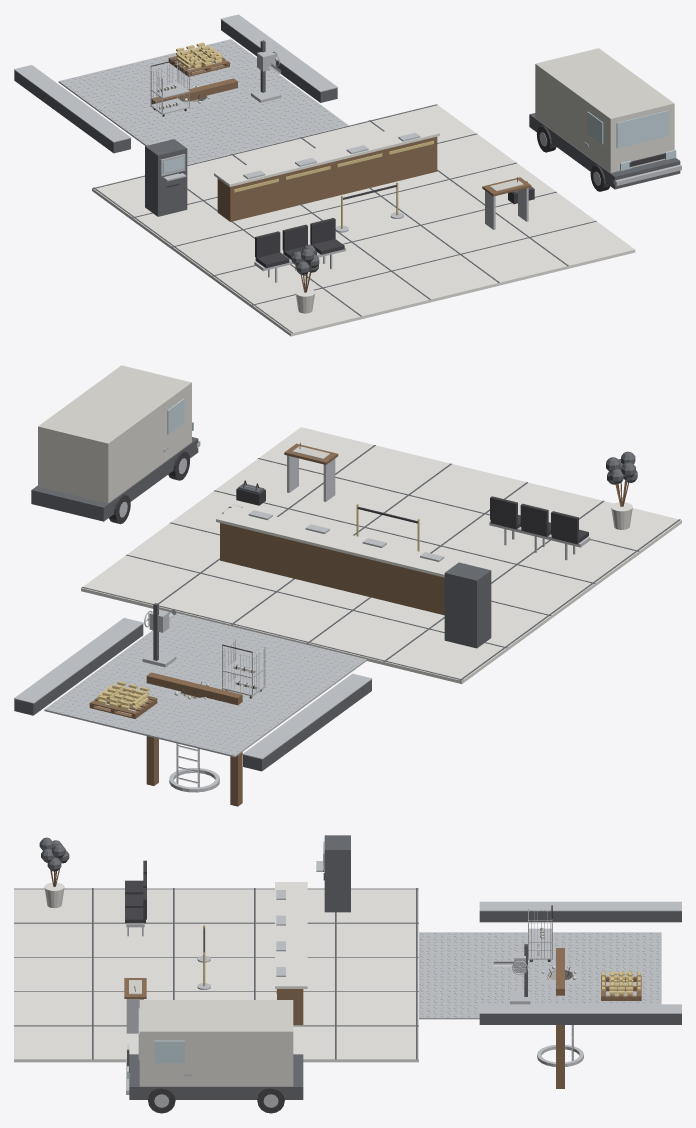
File: bank-vault-heist-kit-bank-planning-layout-6467aecb__25168.glb
3 views of the same model, one above another, from view 1: azimuth 30°, elevation 25°; view 2: azimuth 150°, elevation 25°; view 3: azimuth 270°, elevation 25° (orthographic). The views are drawn at different scales.
Visible parts, largest first — view 1: 081-getaway-van/9, 009-lobby-floor-tile/0, 019-lobby-floor-tile/0, 014-lobby-floor-tile/0, 024-lobby-floor-tile/0, 013-lobby-floor-tile/0, 017-lobby-floor-tile/0, 004-lobby-floor-tile/0, 001-lobby-floor-tile/0, 032-atm/0, 018-lobby-floor-tile/0, 029-waiting-chairs/1 (+56 smaller); view 2: 081-getaway-van/9, 032-atm/0, 020-lobby-floor-tile/0, 005-lobby-floor-tile/0, 000-lobby-floor-tile/0, 010-lobby-floor-tile/0, 015-lobby-floor-tile/0, 019-lobby-floor-tile/0, 002-lobby-floor-tile/0, 013-lobby-floor-tile/0, 014-lobby-floor-tile/0, 003-lobby-floor-tile/0 (+54 smaller); view 3: 081-getaway-van/9, 020-lobby-floor-tile/0, 024-lobby-floor-tile/0, 002-lobby-floor-tile/0, 005-lobby-floor-tile/0, 009-lobby-floor-tile/0, 010-lobby-floor-tile/0, 014-lobby-floor-tile/0, 007-lobby-floor-tile/0, 015-lobby-floor-tile/0, 019-lobby-floor-tile/0, 008-lobby-floor-tile/0 (+71 smaller).
Boxes of the visible parts, <box> form: 081-getaway-van/9: <box>535,48,674,172</box>; 009-lobby-floor-tile/0: <box>320,271,428,319</box>; 019-lobby-floor-tile/0: <box>458,237,566,285</box>; 014-lobby-floor-tile/0: <box>389,254,497,302</box>; 024-lobby-floor-tile/0: <box>527,220,635,269</box>; 013-lobby-floor-tile/0: <box>349,225,457,270</box>; 017-lobby-floor-tile/0: <box>379,179,484,224</box>; 004-lobby-floor-tile/0: <box>251,288,359,336</box>; 001-lobby-floor-tile/0: <box>131,200,239,248</box>; 032-atm/0: <box>145,139,187,216</box>; 018-lobby-floor-tile/0: <box>418,208,525,253</box>; 029-waiting-chairs/1: <box>255,218,344,268</box>; 081-getaway-van/9: <box>38,365,191,503</box>; 032-atm/0: <box>444,562,491,648</box>; 020-lobby-floor-tile/0: <box>81,556,200,608</box>; 005-lobby-floor-tile/0: <box>309,611,429,665</box>; 000-lobby-floor-tile/0: <box>386,630,505,683</box>; 010-lobby-floor-tile/0: <box>233,593,352,645</box>; 015-lobby-floor-tile/0: <box>159,574,276,626</box>; 019-lobby-floor-tile/0: <box>335,445,452,496</box>; 002-lobby-floor-tile/0: <box>491,566,593,619</box>; 013-lobby-floor-tile/0: <box>366,496,485,546</box>; 014-lobby-floor-tile/0: <box>410,464,528,514</box>; 003-lobby-floor-tile/0: <box>518,540,637,587</box>; 081-getaway-van/9: <box>139,1000,293,1086</box>; 020-lobby-floor-tile/0: <box>338,1025,418,1062</box>; 024-lobby-floor-tile/0: <box>14,1025,94,1062</box>; 002-lobby-floor-tile/0: <box>176,888,256,922</box>; 005-lobby-floor-tile/0: <box>338,922,418,956</box>; 009-lobby-floor-tile/0: <box>14,922,94,956</box>; 010-lobby-floor-tile/0: <box>338,956,418,990</box>; 014-lobby-floor-tile/0: <box>14,956,94,990</box>; 007-lobby-floor-tile/0: <box>176,922,256,956</box>; 015-lobby-floor-tile/0: <box>338,991,418,1024</box>; 019-lobby-floor-tile/0: <box>14,991,94,1024</box>; 008-lobby-floor-tile/0: <box>95,922,175,956</box>.
Size of the model in its own units: 13 by 4.7 by 16.5.
